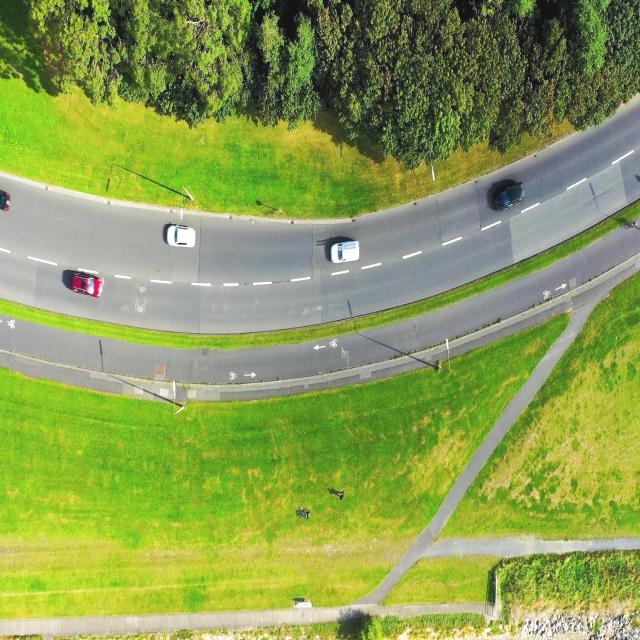Car: (72, 270, 104, 298), (165, 223, 196, 250)
Van: (492, 180, 526, 214), (330, 240, 360, 264)
